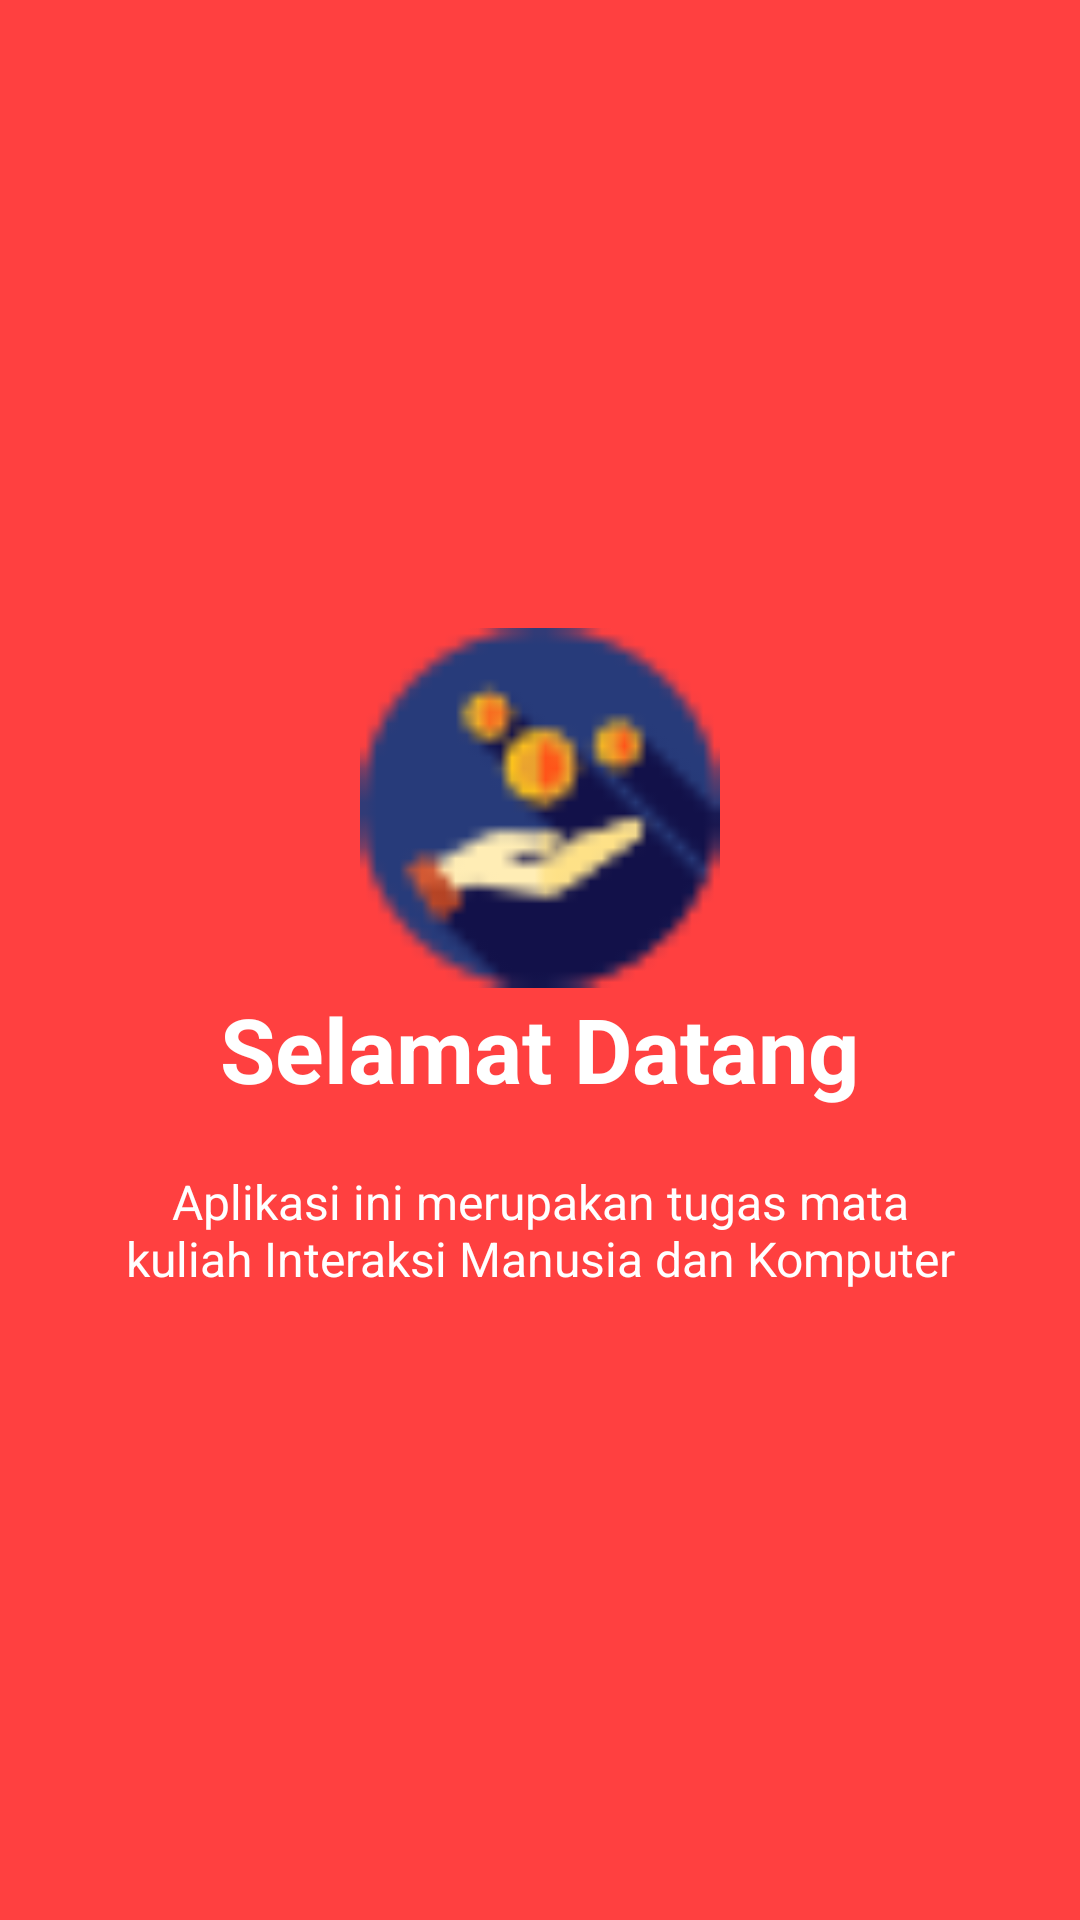

Screen size 1080*1920. Icon name, then its box in pixels as box=[x1, y1, x2, y2]:
coins: box=[360, 628, 720, 988]
